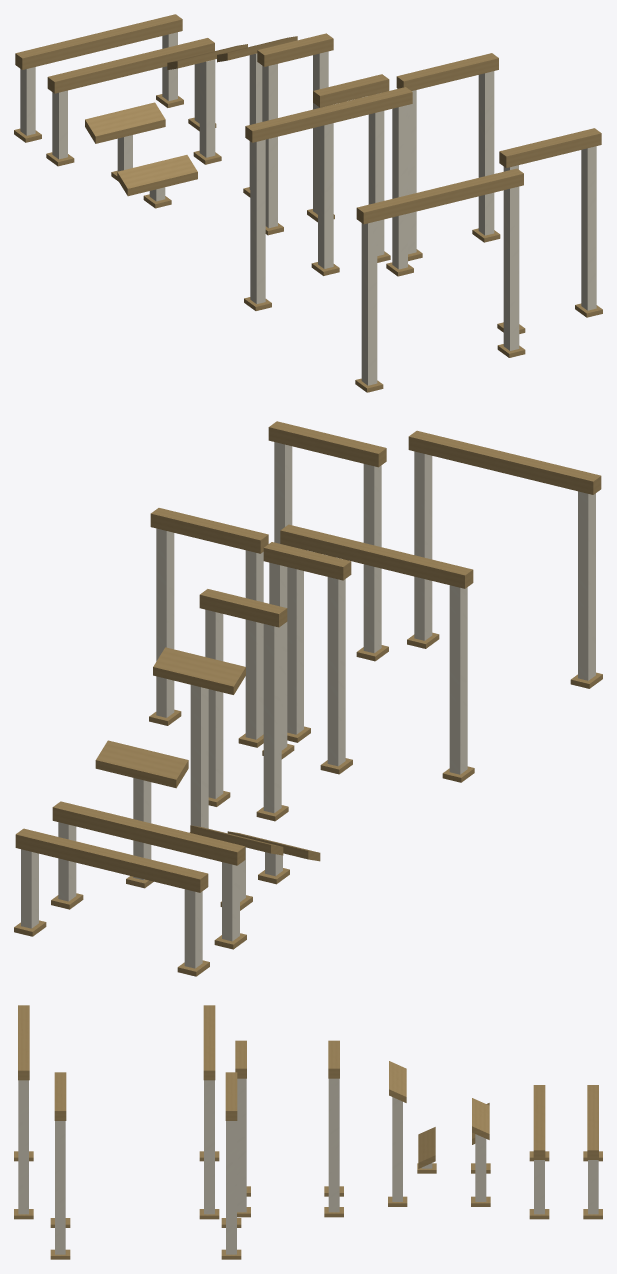
File: AST-TRM-G4-018_central_stair_receiving.glb
The picture shows the model from 3 angles, top to bottom: view 1: azimuth 30°, elevation 25°; view 2: azimuth 150°, elevation 25°; view 3: azimuth 270°, elevation 25°; orthographic projection. The views are drawn at different scales.
Parts seen in each view (by area): view 1: M004_Mid_Beam_0, M004_Approach_Beam_1, M004_Approach_Beam_0, M004_Mid_Beam_1, M004_Approach_(1, 0)_Pier, M004_Approach_(1, 1)_Pier, M004_Approach_(0, 0)_Pier, M004_Return_(1, 1)_Pier, M004_Return_(0, 1)_Pier, M004_Approach_(0, 1)_Pier, M004_Upper_(1, 0)_Pier, M004_Upper_(0, 0)_Pier (+17 smaller); view 2: M004_Mid_Beam_1, M004_Approach_Beam_1, M004_Approach_Beam_0, M004_Mid_Beam_0, M004_Upper_(1, 0)_Pier, M004_Upper_(0, 0)_Pier, M004_Approach_(0, 0)_Pier, M004_Approach_(1, 0)_Pier, M004_Return_(1, 0)_Pier, M004_Approach_(1, 1)_Pier, M004_Return_(0, 0)_Pier, M004_Return_(0, 1)_Pier (+17 smaller); view 3: M004_Upper_(0, 1)_Pier, M004_Approach_(0, 1)_Pier, M004_Approach_(1, 1)_Pier, M004_Return_(0, 1)_Pier, M004_Return_(1, 1)_Pier, M004_Upper_(1, 1)_Pier, M004_Flight1_1_Pier, M004_Approach_Beam_0, M004_Mid_Beam_1, M004_Approach_Beam_1, M004_Mid_Beam_0, M004_Flight1_0_Pier (+9 smaller).
Boxes of the visible parts, x1,y1,x2,y2 form: M004_Mid_Beam_0: [15, 14, 182, 69]; M004_Approach_Beam_1: [356, 168, 523, 224]; M004_Approach_Beam_0: [245, 87, 412, 142]; M004_Mid_Beam_1: [47, 38, 214, 93]; M004_Approach_(1, 0)_Pier: [361, 221, 377, 385]; M004_Approach_(1, 1)_Pier: [503, 186, 519, 350]; M004_Approach_(0, 0)_Pier: [250, 139, 265, 303]; M004_Return_(1, 1)_Pier: [581, 146, 596, 310]; M004_Return_(0, 1)_Pier: [478, 71, 494, 235]; M004_Approach_(0, 1)_Pier: [392, 105, 407, 269]; M004_Upper_(1, 0)_Pier: [318, 106, 333, 268]; M004_Upper_(0, 0)_Pier: [262, 64, 277, 228]; M004_Mid_Beam_1: [52, 801, 245, 865]; M004_Approach_Beam_1: [408, 430, 601, 494]; M004_Approach_Beam_0: [280, 524, 473, 588]; M004_Mid_Beam_0: [15, 828, 208, 892]; M004_Upper_(1, 0)_Pier: [327, 577, 345, 766]; M004_Upper_(0, 0)_Pier: [263, 624, 281, 813]; M004_Approach_(0, 0)_Pier: [449, 585, 467, 774]; M004_Approach_(1, 0)_Pier: [578, 491, 595, 680]; M004_Return_(1, 0)_Pier: [363, 464, 381, 653]; M004_Approach_(1, 1)_Pier: [414, 451, 432, 640]; M004_Return_(0, 0)_Pier: [245, 550, 263, 739]; M004_Return_(0, 1)_Pier: [156, 528, 174, 717]; M004_Upper_(0, 1)_Pier: [328, 1078, 339, 1212]; M004_Approach_(0, 1)_Pier: [204, 1080, 214, 1214]; M004_Approach_(1, 1)_Pier: [18, 1080, 28, 1214]; M004_Return_(0, 1)_Pier: [226, 1121, 236, 1254]; M004_Return_(1, 1)_Pier: [55, 1121, 65, 1254]; M004_Upper_(1, 1)_Pier: [237, 1078, 246, 1212]; M004_Flight1_1_Pier: [392, 1097, 402, 1201]; M004_Approach_Beam_0: [203, 1005, 215, 1080]; M004_Mid_Beam_1: [533, 1085, 545, 1159]; M004_Approach_Beam_1: [18, 1005, 29, 1080]; M004_Mid_Beam_0: [587, 1085, 598, 1159]; M004_Flight1_0_Pier: [475, 1134, 486, 1201].
Bounding box in the file's own units: 5.12 × 3.36 × 12.05.
Materials: 2 (2 with a texture image).
